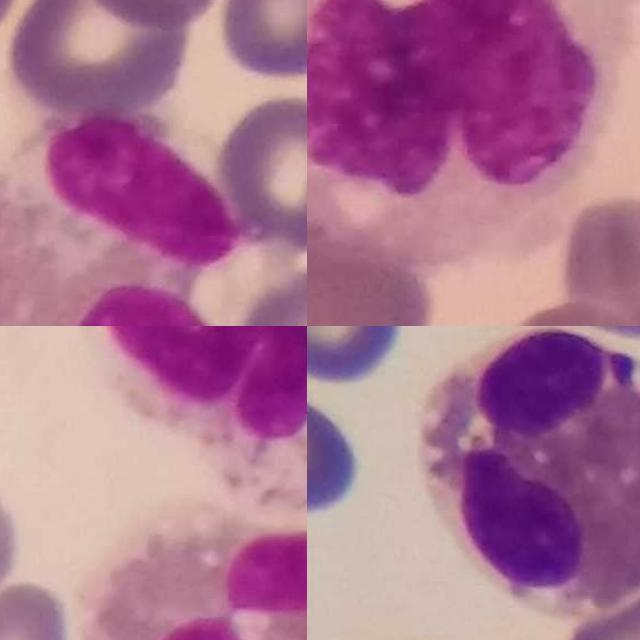Eosinophil: (414, 330, 640, 609), (0, 107, 250, 326), (80, 470, 307, 640)
Monocyte: (307, 0, 623, 258)
